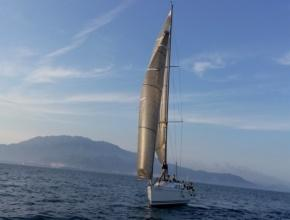fanchuan: (132, 1, 227, 207)
